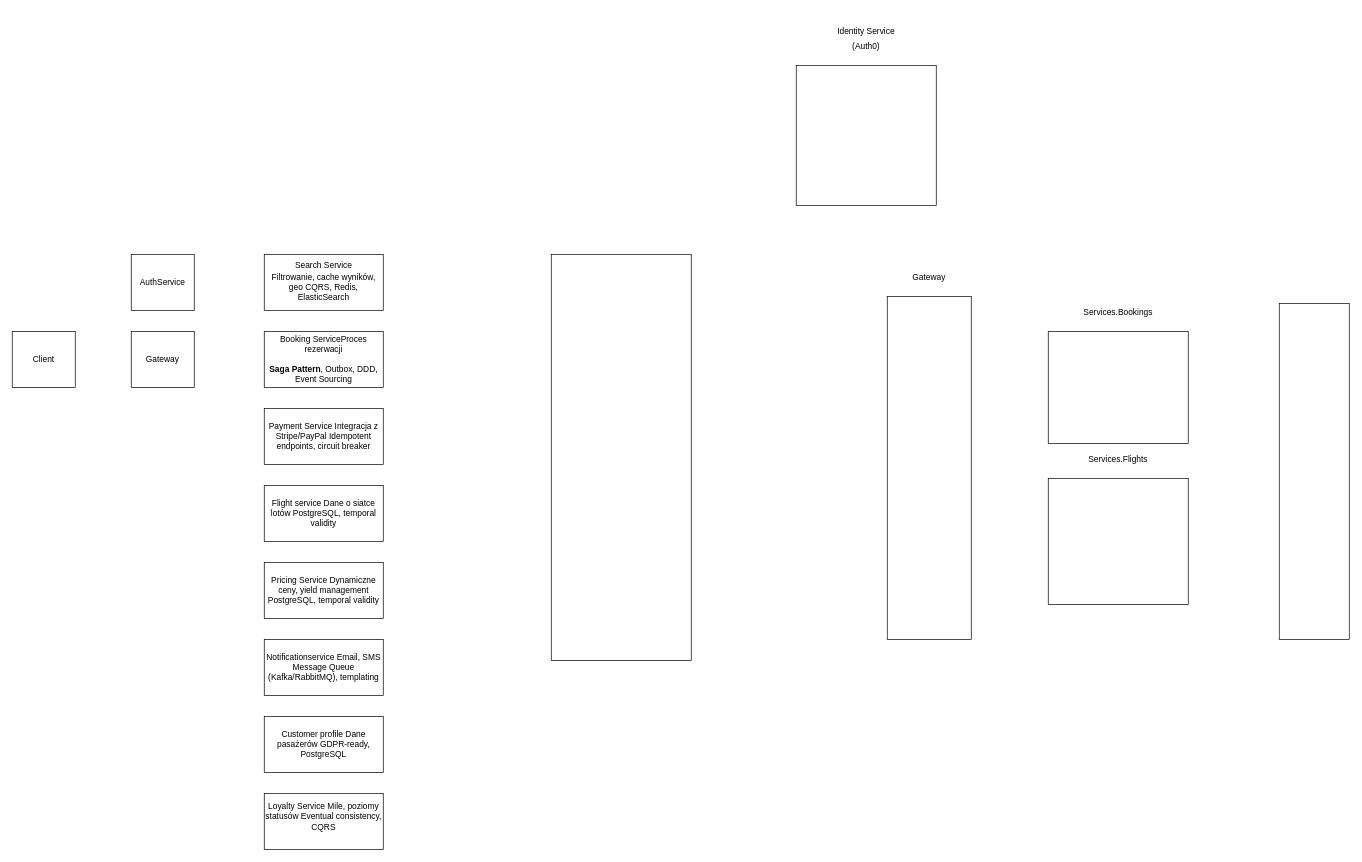
The diagram is 1362 pixels wide and 862 high, and some of its shapes have lost their labels. Each missing label, with the box of its shape:
Client (WebAssembly Blazor): (551, 254, 691, 660)
RabbitMQ: (1279, 303, 1349, 639)
